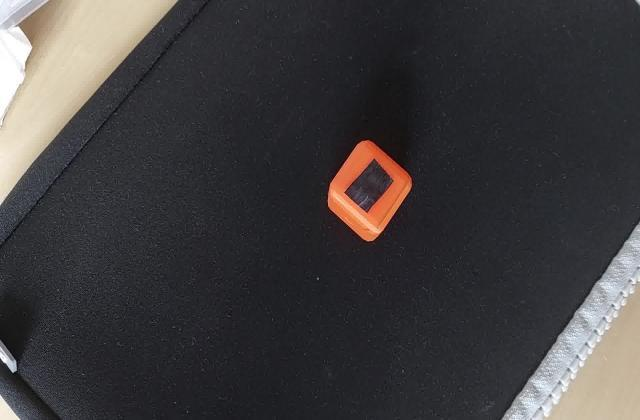black: (336, 158, 399, 214)
sticker: (323, 140, 413, 246)
